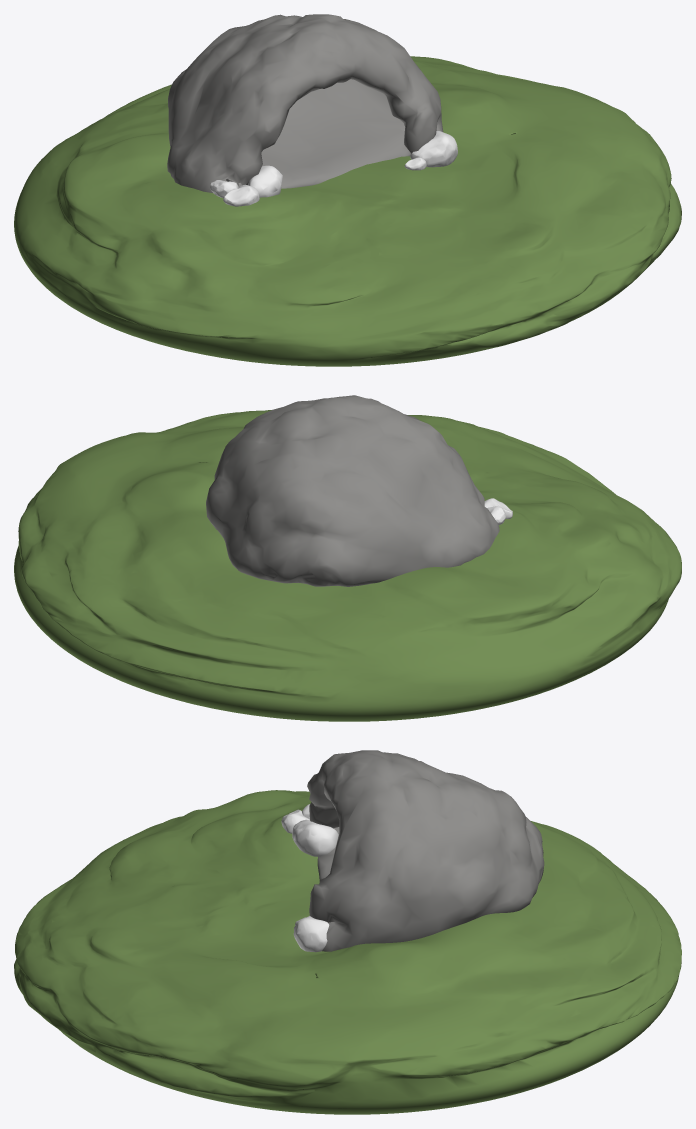
Rendered from CAVE_low.fbx.
3 views of the same model, one above another, from view 1: azimuth 30°, elevation 25°; view 2: azimuth 150°, elevation 25°; view 3: azimuth 270°, elevation 25° (orthographic). The views are drawn at different scales.
Parts seen in each view (by area): view 1: Rock01_low, CaveBase_low, Rock06_low, Rock02_low, Rock03_low; view 2: Rock01_low, CaveBase_low; view 3: Rock01_low, CaveBase_low, Rock02_low, Rock06_low.
Boxes of the visible parts, bbox=[...] form: Rock01_low: bbox=[14, 56, 681, 366]; CaveBase_low: bbox=[167, 14, 443, 192]; Rock06_low: bbox=[410, 131, 457, 167]; Rock02_low: bbox=[248, 165, 282, 197]; Rock03_low: bbox=[223, 184, 259, 206]; Rock01_low: bbox=[14, 410, 681, 721]; CaveBase_low: bbox=[206, 395, 499, 586]; Rock01_low: bbox=[14, 790, 681, 1114]; CaveBase_low: bbox=[307, 750, 544, 951]; Rock02_low: bbox=[292, 819, 338, 856]; Rock06_low: bbox=[293, 916, 329, 952].
Size of the model in its own units: 114 by 45.4 by 110.
